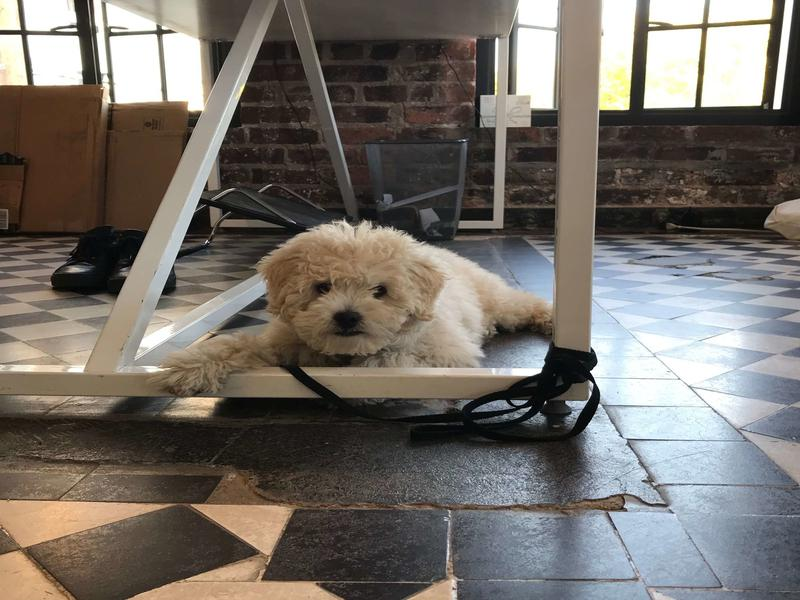dog_down: (167, 218, 552, 397)
